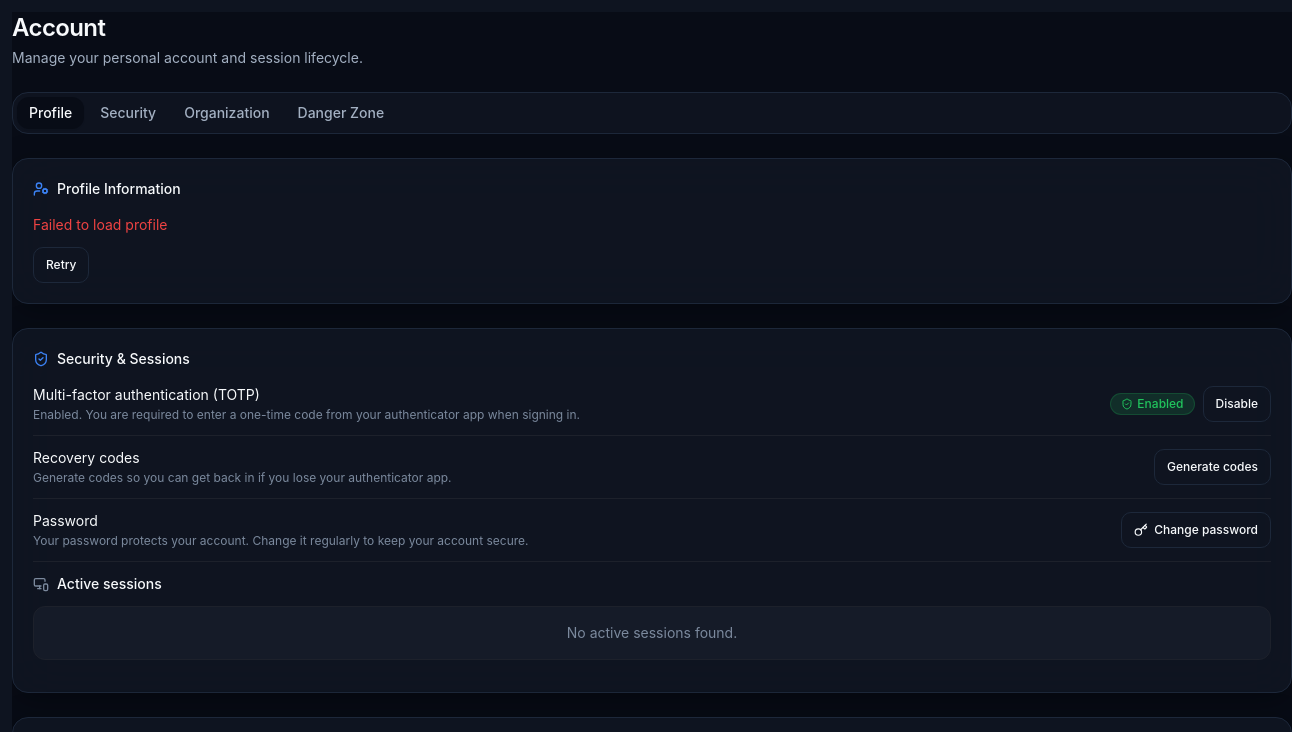
Scenario: Account Page Contract › loading and error states › retry reloads the failed section
Click the button "Retry". click: (61, 265)
box: [33,247,90,283]
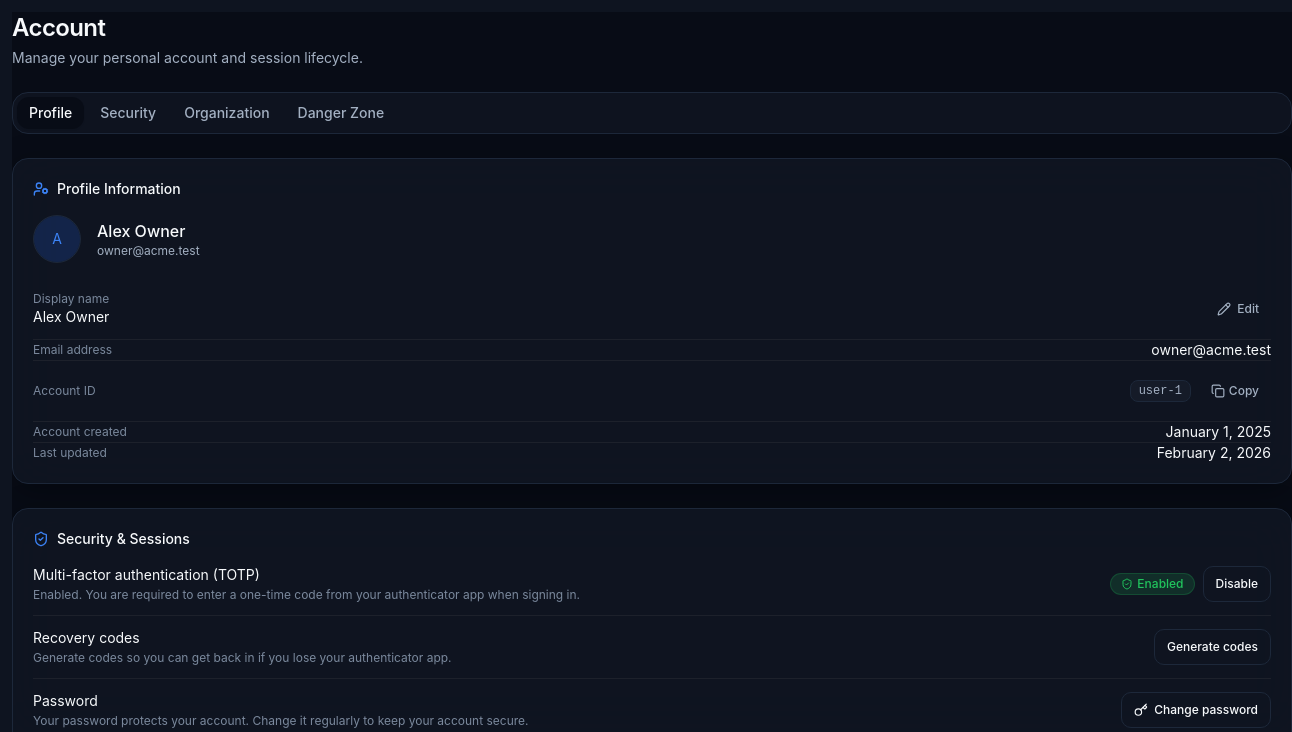
Expected: the 1st text "Alex Owner" is shown, [97,219,200,243]
